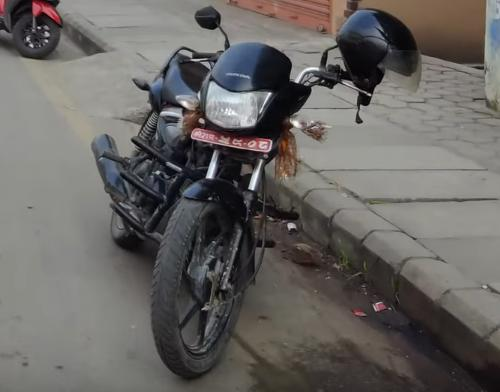bike: (90, 0, 367, 392)
